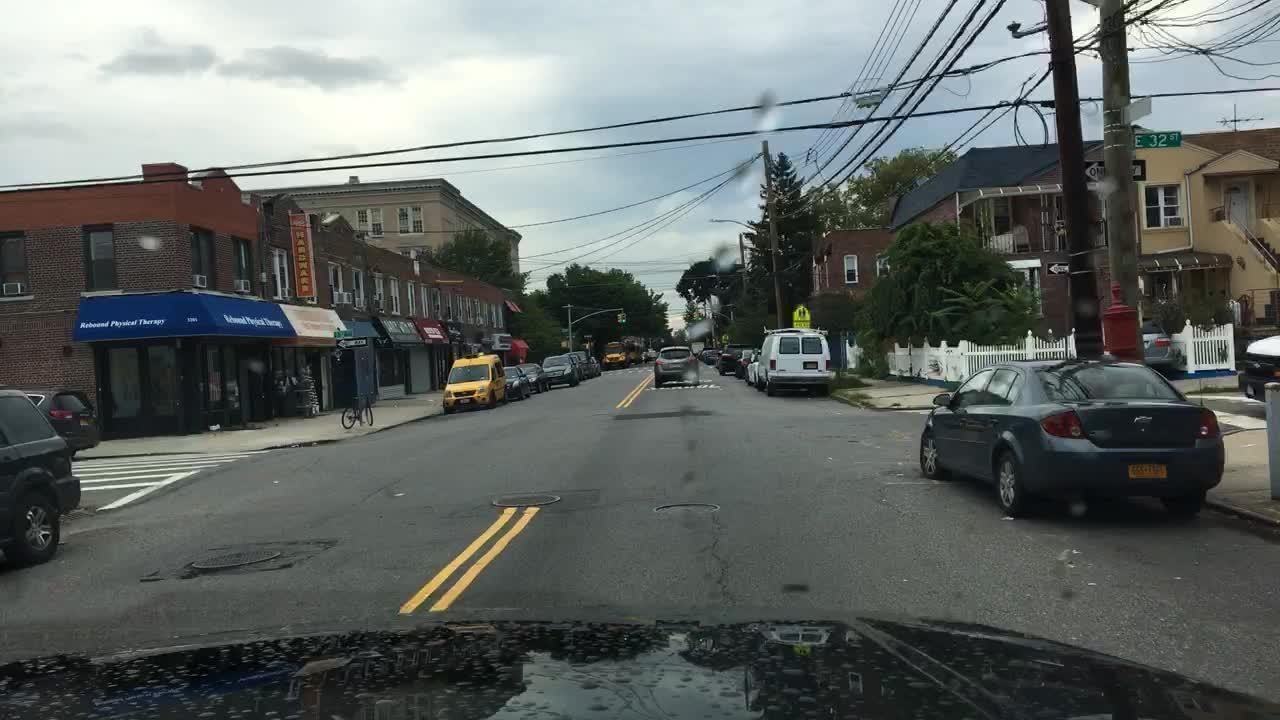chevrolet: (1130, 412, 1156, 426)
